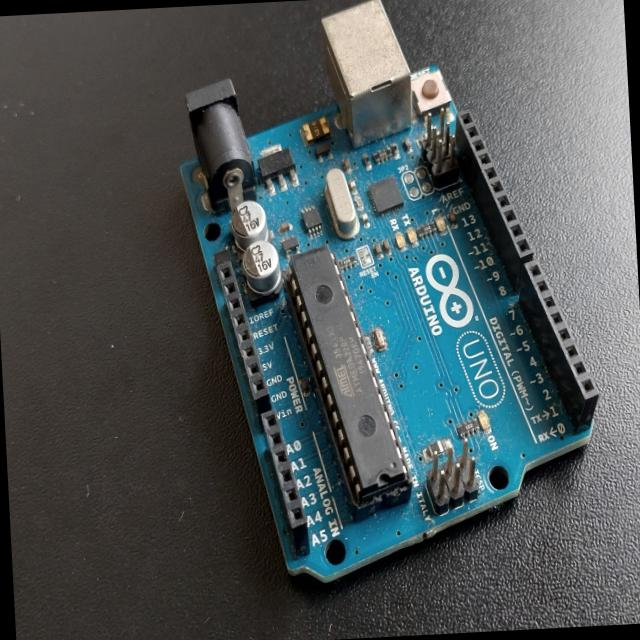arduino: (153, 0, 613, 589)
